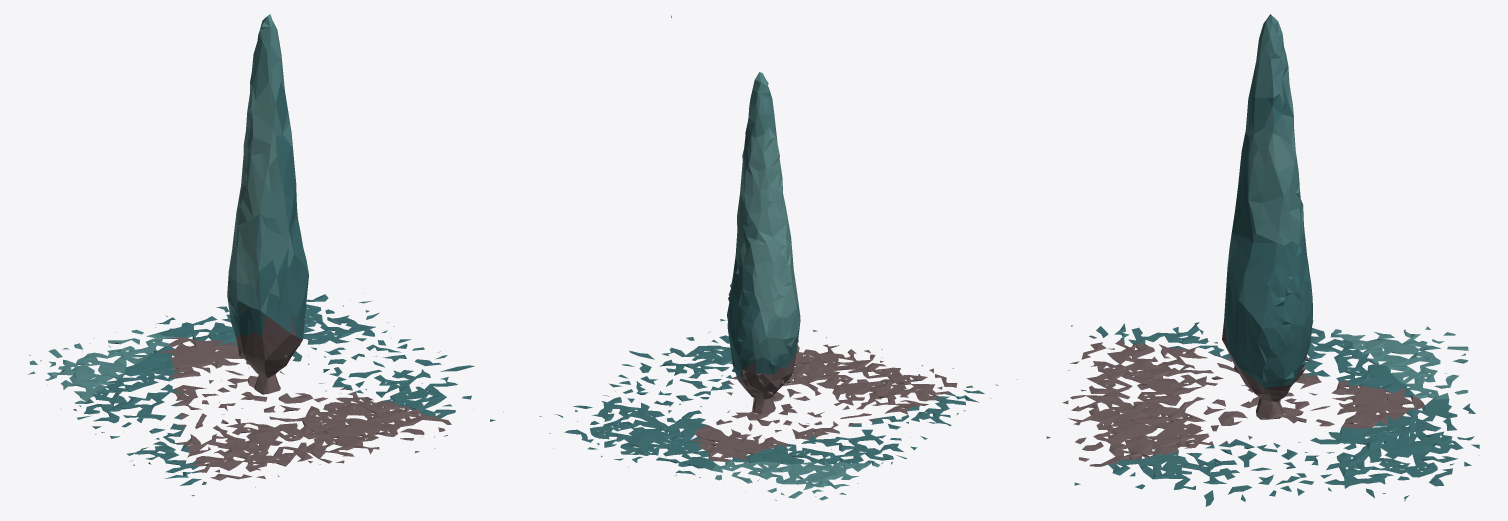
File: tree_cypress.glb
3 views of the same model, side by side, from view 1: azimuth 30°, elevation 25°; view 2: azimuth 150°, elevation 25°; view 3: azimuth 270°, elevation 25° (orthographic). The views are drawn at different scales.
Visible parts, largest first — view 1: geometry_0; view 2: geometry_0; view 3: geometry_0.
Part boxes in pixels (x1=…): geometry_0: x1=28, y1=14, x2=503, y2=496; geometry_0: x1=539, y1=15, x2=1017, y2=500; geometry_0: x1=1046, y1=14, x2=1479, y2=506.
Size of the model in its own units: 1.97 by 1.97 by 1.98.
